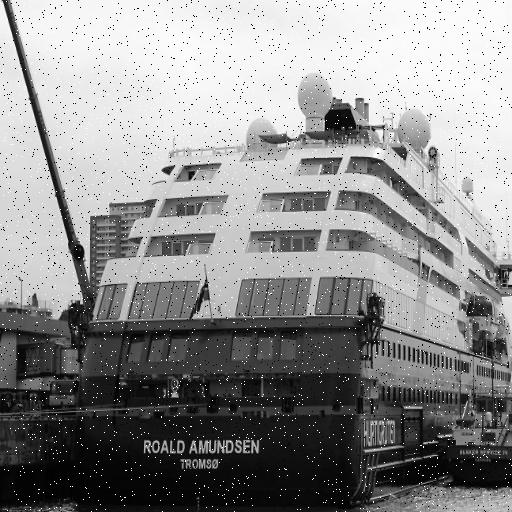cruises: (72, 66, 512, 512)
